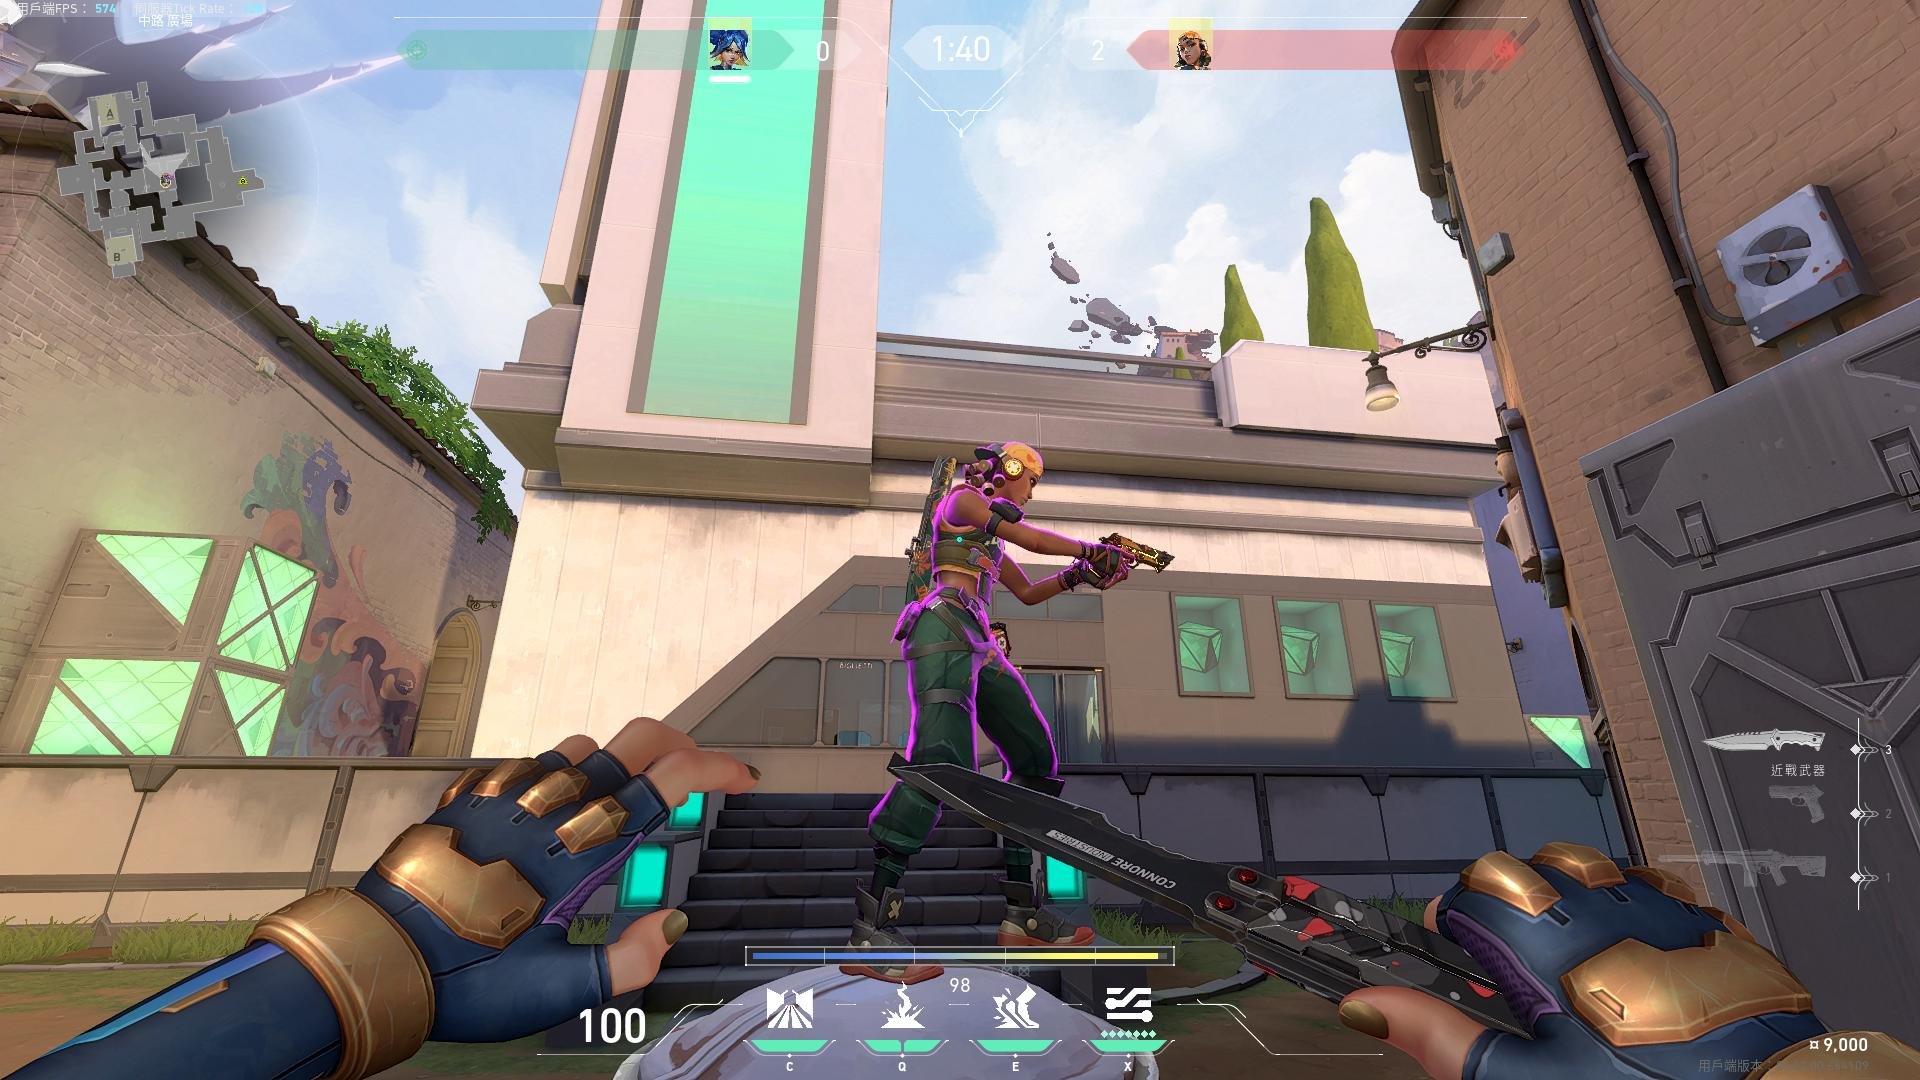enemyBody: (935, 510, 993, 615)
enemyHead: (978, 429, 1040, 508)
